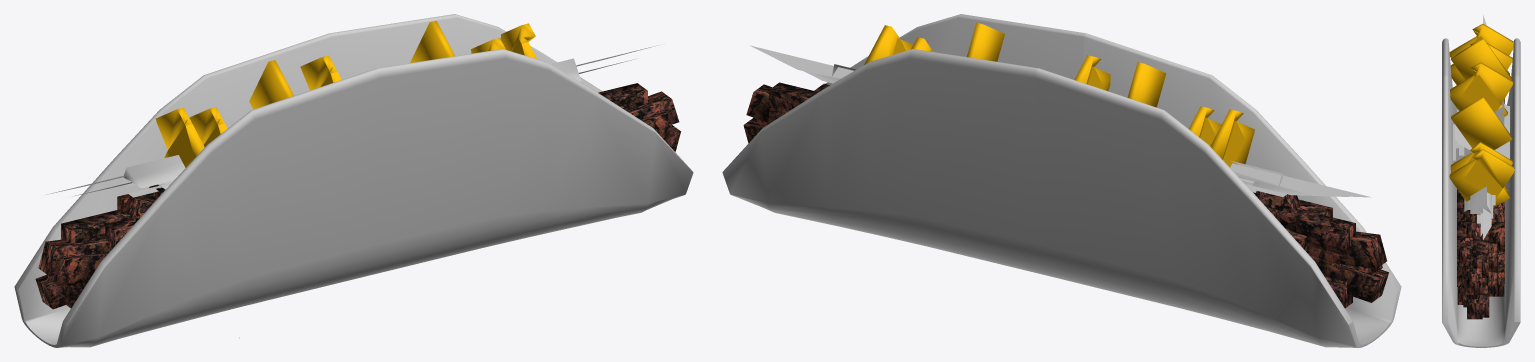
Rendered from taco.dae.
3 renders of one model, left to right at view 1: azimuth 30°, elevation 25°; view 2: azimuth 150°, elevation 25°; view 3: azimuth 270°, elevation 25°, orthographic. The views are drawn at different scales.
Visible parts, largest first — view 1: taco_shell (×4), taco_meat (×8), taco_suprmeme (×6), lettuce (×2); view 2: taco_shell (×4), taco_meat (×5), taco_suprmeme (×6), lettuce (×2); view 3: taco_shell (×4), taco_suprmeme (×7), taco_meat (×10), lettuce (×2).
Boxes of the visible parts, x1=… form: taco_shell (×4): x1=14, y1=14, x2=693, y2=347; taco_meat (×8): x1=35, y1=83, x2=679, y2=309; taco_suprmeme (×6): x1=155, y1=20, x2=536, y2=167; lettuce (×2): x1=47, y1=45, x2=656, y2=197; taco_shell (×4): x1=722, y1=14, x2=1401, y2=347; taco_meat (×5): x1=746, y1=82, x2=1388, y2=302; taco_suprmeme (×6): x1=864, y1=22, x2=1254, y2=167; lettuce (×2): x1=749, y1=45, x2=1371, y2=197; taco_shell (×4): x1=1442, y1=38, x2=1520, y2=347; taco_suprmeme (×7): x1=1449, y1=24, x2=1514, y2=207; taco_meat (×10): x1=1457, y1=189, x2=1504, y2=319; lettuce (×2): x1=1453, y1=15, x2=1509, y2=239.
Size of the model in its own units: 52123 by 8619 by 18409.
